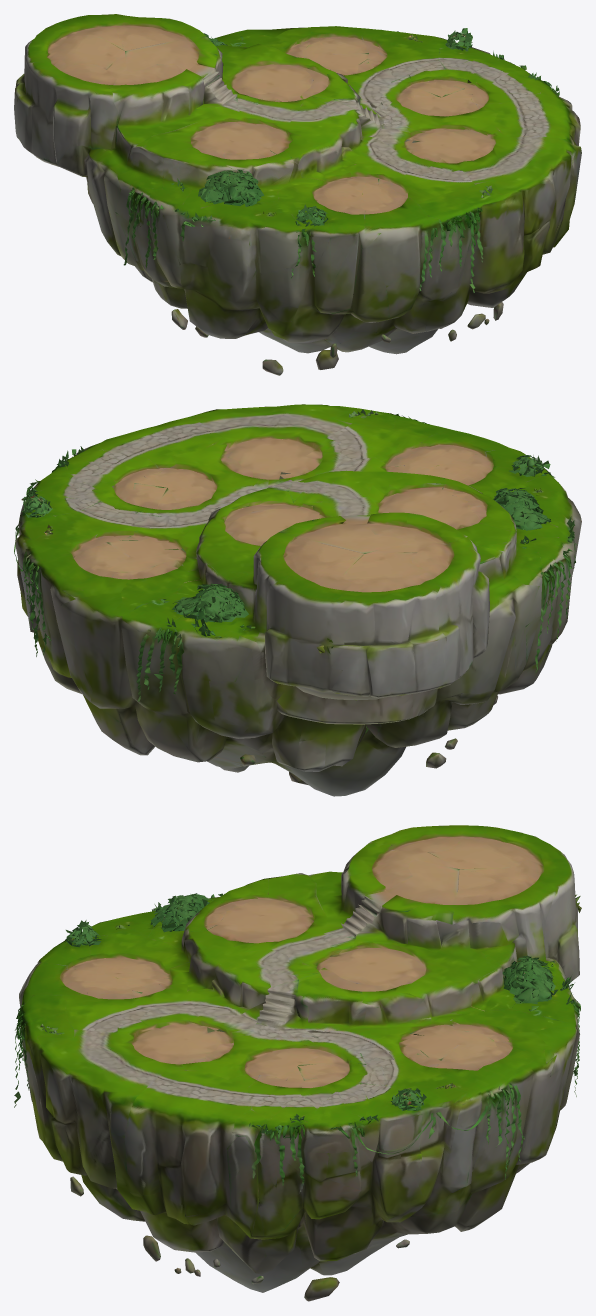
File: island2.glb
The picture shows the model from 3 angles, top to bottom: view 1: azimuth 30°, elevation 25°; view 2: azimuth 150°, elevation 25°; view 3: azimuth 270°, elevation 25°; orthographic projection. The views are drawn at different scales.
Bounding box in the file's own units: 0.9556 × 0.5771 × 0.9399.
1 material, 1 textured.
